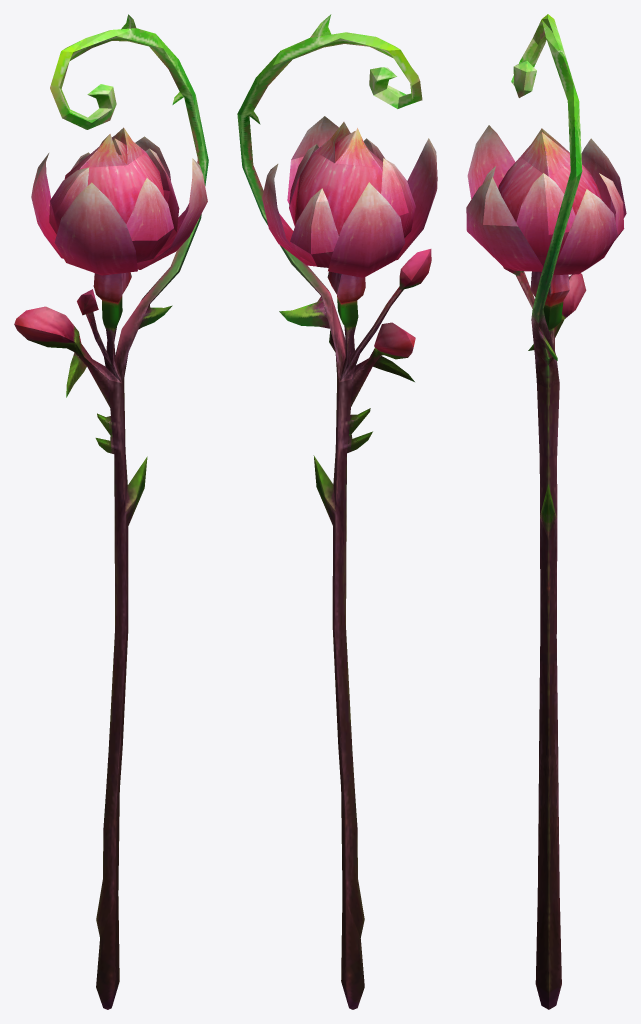
File: wmsjszfz2_40aece02.glb
The picture shows the model from 3 angles, left to right: view 1: azimuth 30°, elevation 25°; view 2: azimuth 150°, elevation 25°; view 3: azimuth 270°, elevation 25°; orthographic projection.
Bounding box in the file's own units: 0.917 × 4.74 × 0.6941.
Materials: 1 (1 with a texture image).
